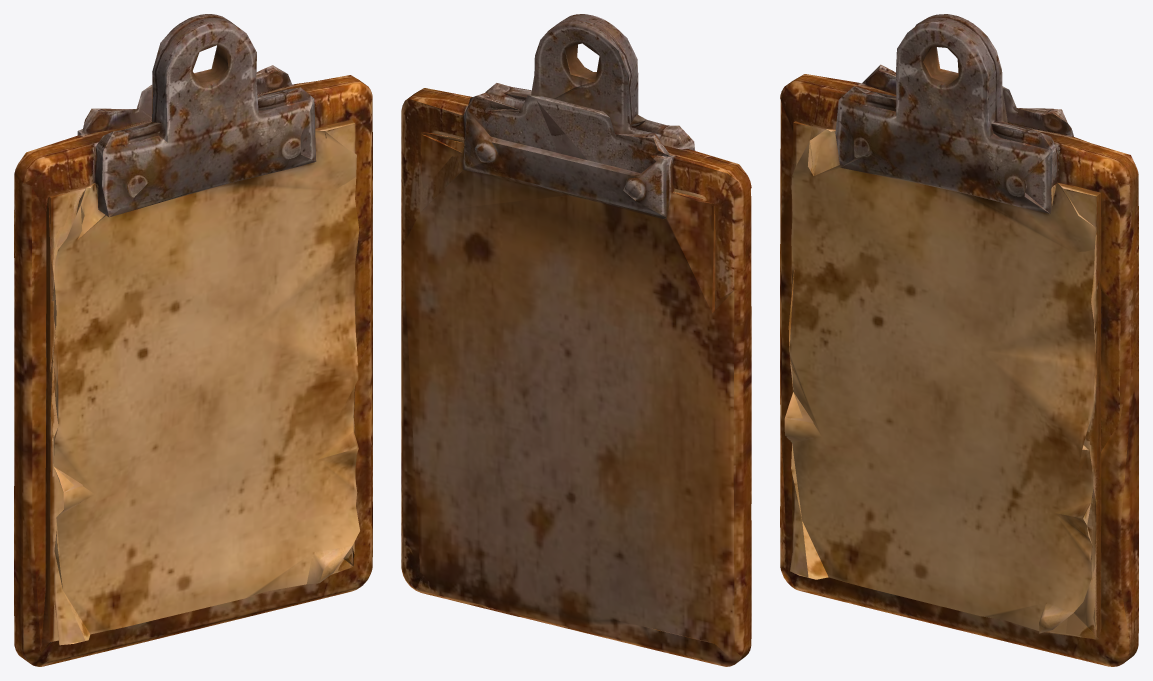
Rendered from clipboard.glb.
3 views of the same model, side by side, from view 1: azimuth 30°, elevation 25°; view 2: azimuth 150°, elevation 25°; view 3: azimuth 330°, elevation 25° (orthographic). The views are drawn at different scales.
Parts seen in each view (by area): view 1: Mesh_0; view 2: Mesh_0; view 3: Mesh_0.
Part boxes in pixels (<box>): Mesh_0: <box>14,14,372,666</box>; Mesh_0: <box>401,14,751,666</box>; Mesh_0: <box>780,14,1138,666</box>.
Bounding box in the file's own units: 1.13 × 1.89 × 0.2485.
Materials: 1 (1 with a texture image).
